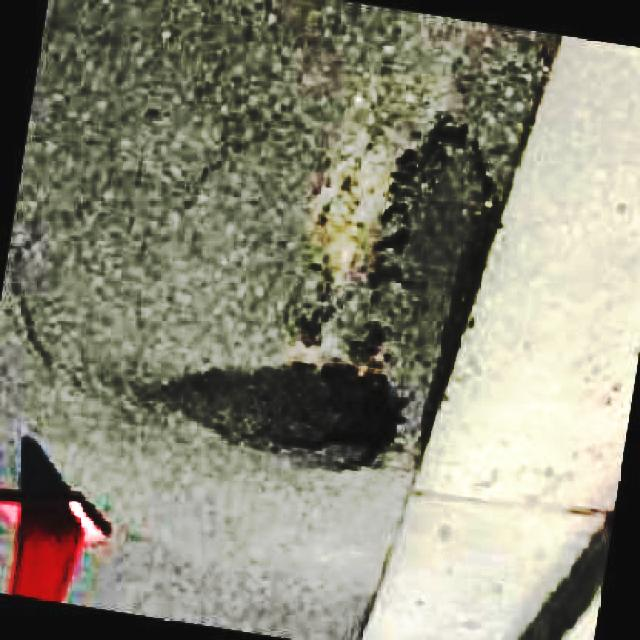pothole: (170, 362, 408, 469)
